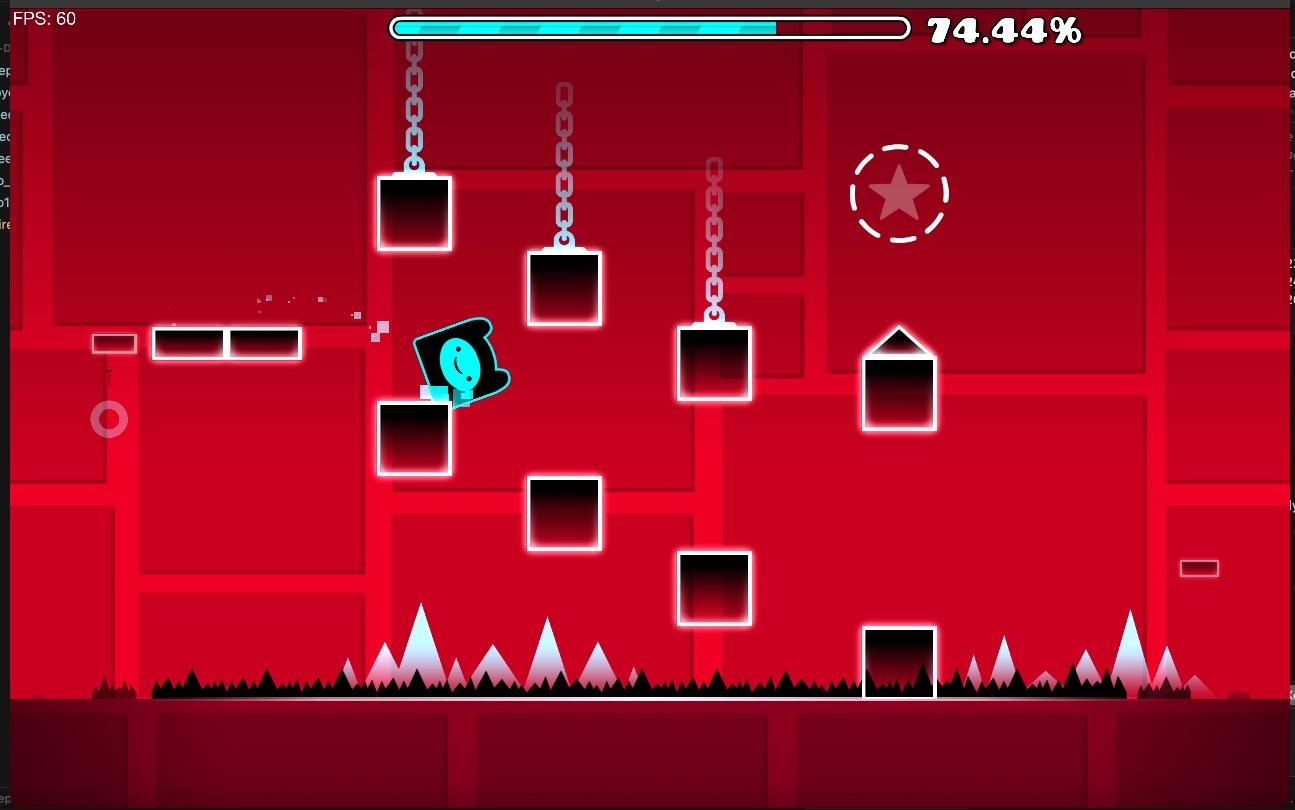block: (676, 551, 750, 631), (527, 477, 600, 553), (676, 329, 753, 401), (379, 176, 452, 251), (526, 253, 601, 325), (863, 627, 936, 698), (380, 403, 450, 475)
platform: (151, 326, 302, 360)
player: (413, 318, 510, 408)
spike: (152, 670, 862, 698), (363, 604, 468, 686), (862, 325, 936, 430), (1108, 624, 1213, 696), (955, 637, 1020, 691), (534, 620, 565, 682), (471, 645, 517, 684), (1072, 651, 1102, 685), (1031, 671, 1065, 693), (342, 659, 360, 685), (599, 656, 615, 680)
